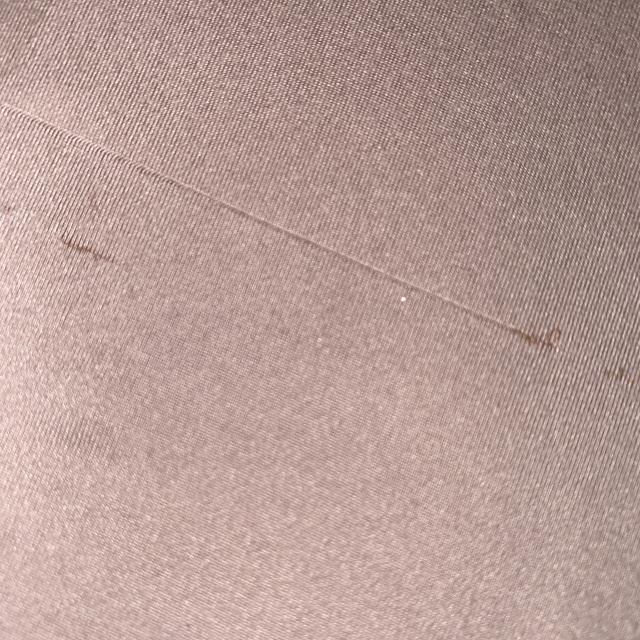Line: (0, 98, 562, 352)
